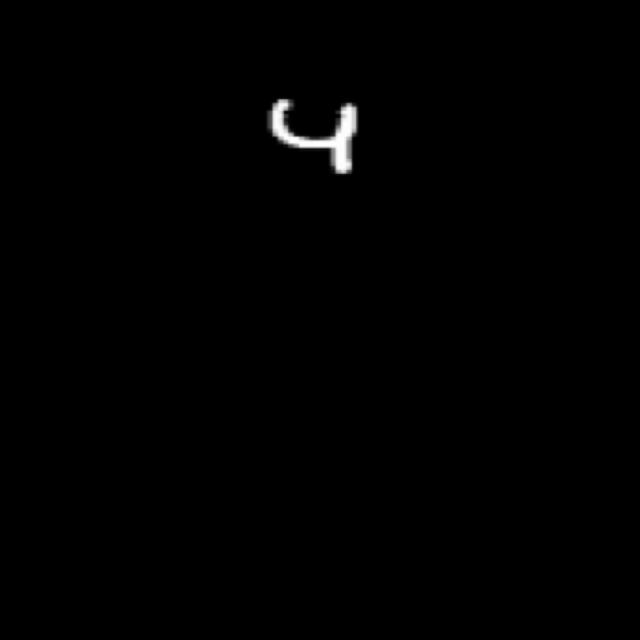four -4-: (252, 86, 381, 180)
